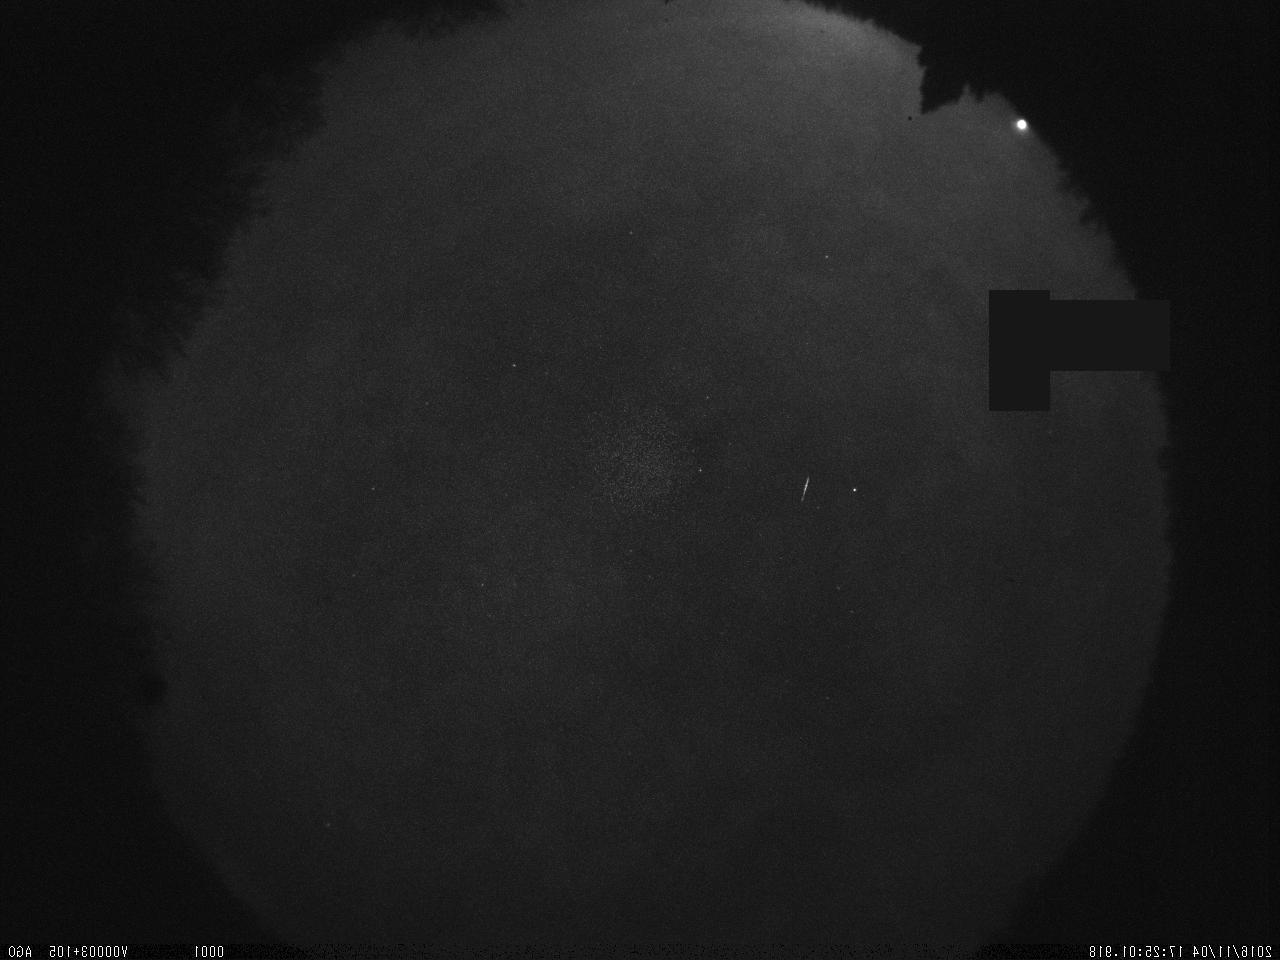meteor: (790, 466, 826, 510)
